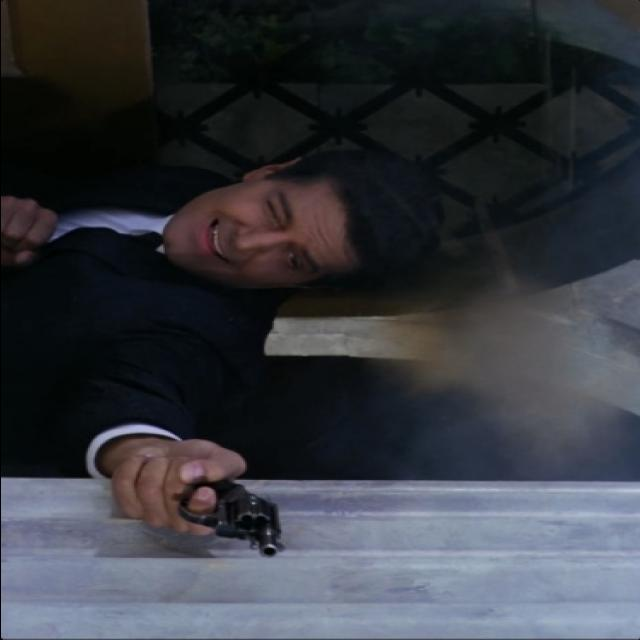weapons: (126, 457, 304, 563)
